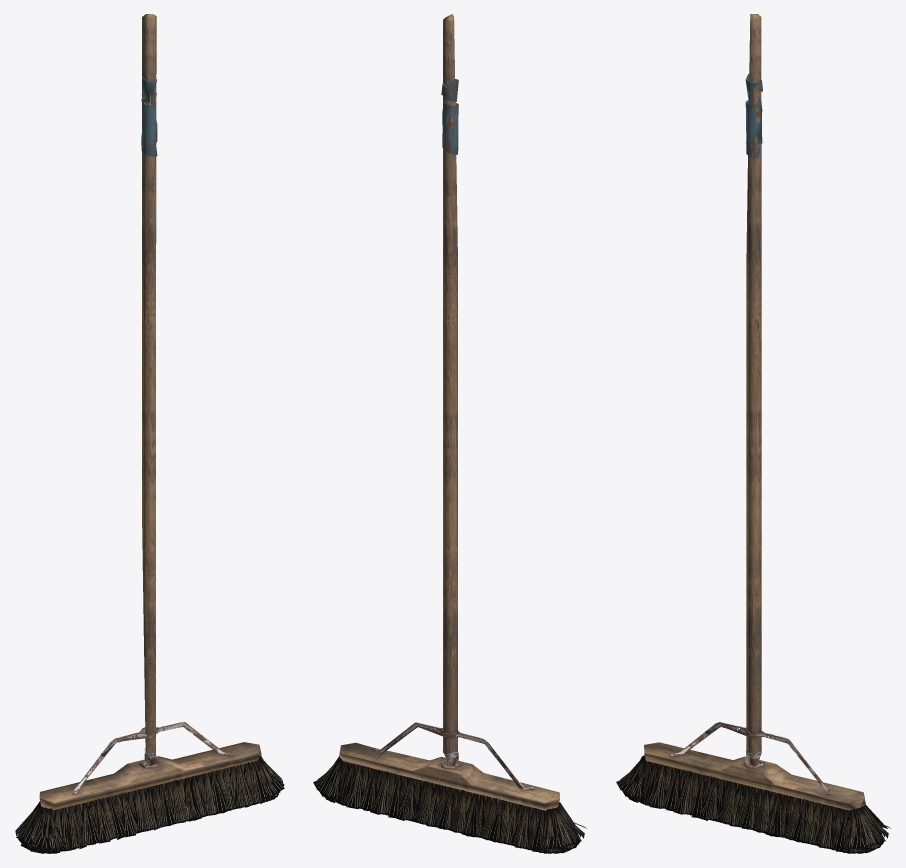
File: wooden_broom.glb
3 renders of one model, left to right at view 1: azimuth 30°, elevation 25°; view 2: azimuth 150°, elevation 25°; view 3: azimuth 330°, elevation 25°, orthographic.
Parts seen in each view (by area): view 1: wooden_broom_handle, wooden_broom_bristles; view 2: wooden_broom_handle, wooden_broom_bristles; view 3: wooden_broom_handle, wooden_broom_bristles.
Boxes of the visible parts, box(x1,y1,x2,y2) form: wooden_broom_handle: box(39, 14, 261, 809); wooden_broom_bristles: box(15, 756, 284, 853); wooden_broom_handle: box(339, 14, 559, 810); wooden_broom_bristles: box(313, 756, 586, 853); wooden_broom_handle: box(644, 14, 865, 810); wooden_broom_bristles: box(616, 755, 890, 853).
Size of the model in its own units: 0.4902 by 1.45 by 0.1125.
Materials: 2 (2 with a texture image).
